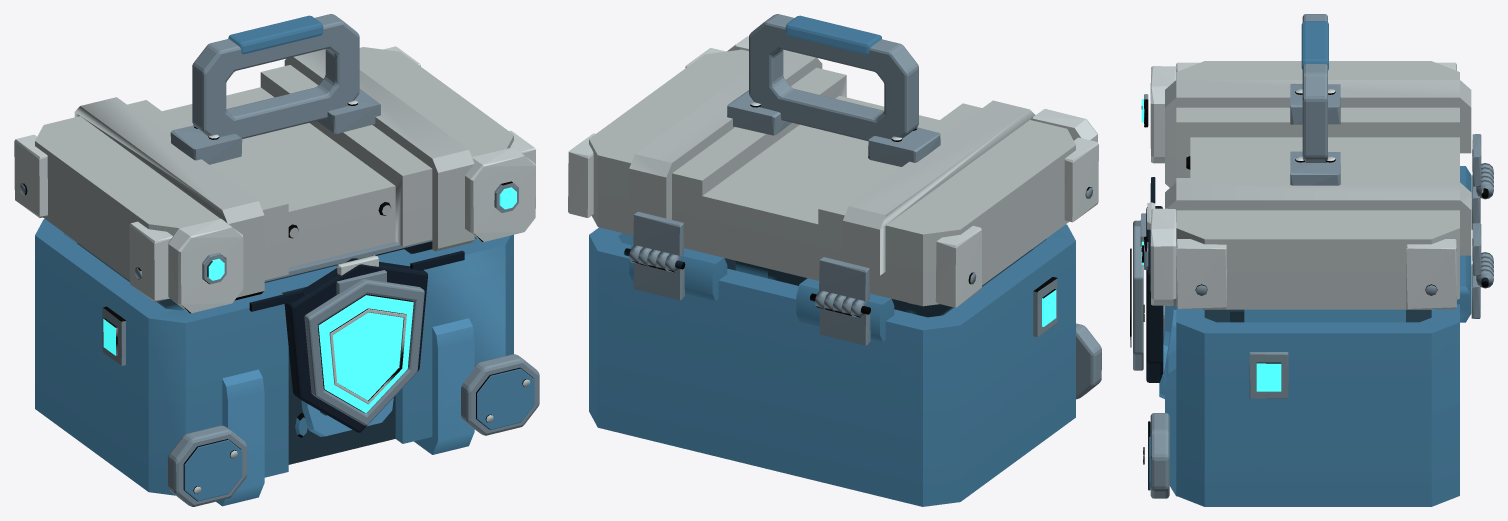
File: aegis-transit.glb
The picture shows the model from 3 angles, left to right: view 1: azimuth 30°, elevation 25°; view 2: azimuth 150°, elevation 25°; view 3: azimuth 270°, elevation 25°; orthographic projection.
Visible parts, largest first — view 1: LidShell, Body; view 2: LidShell, Body; view 3: LidShell, Body.
Part boxes in pixels (box(x1,y1,x2,y2)): LidShell: box(14, 14, 535, 313); Body: box(35, 219, 539, 506); LidShell: box(568, 14, 1098, 318); Body: box(589, 224, 1101, 506); LidShell: box(1141, 14, 1493, 309); Body: box(1130, 166, 1493, 506).
Bounding box in the file's own units: 2.14 × 2.07 × 1.73.
1 material, 1 textured.
